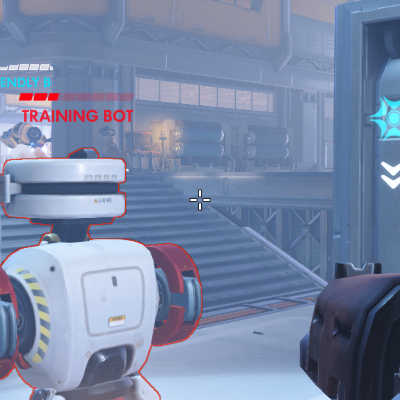hpbar: (18, 92, 134, 102)
